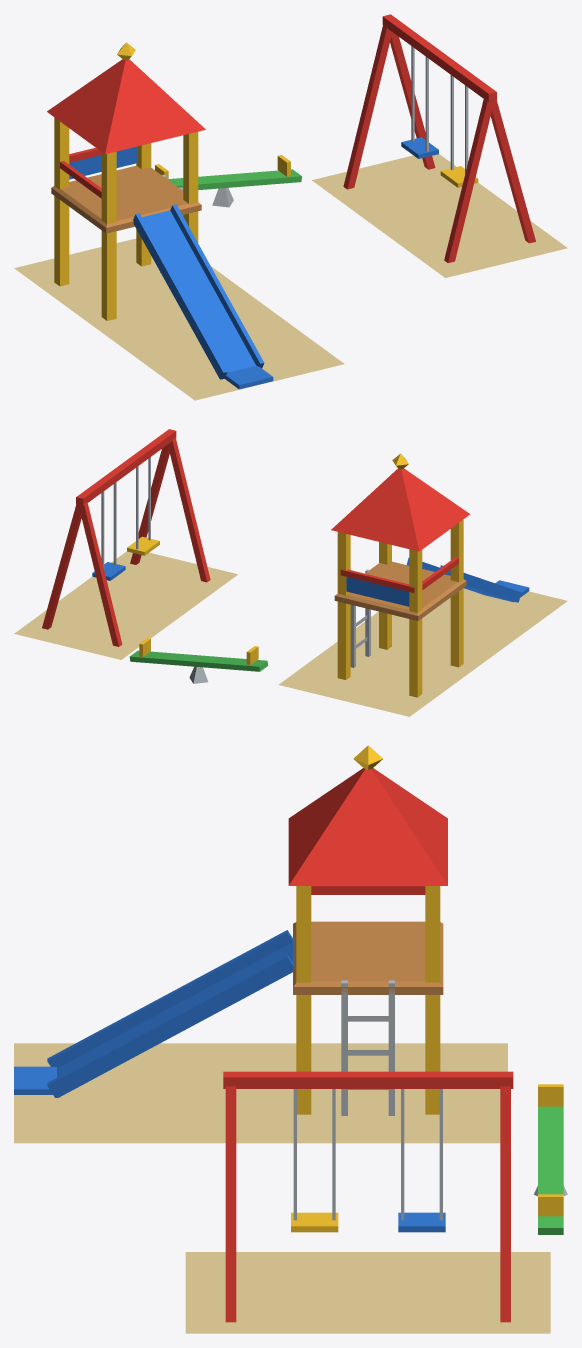
Rendered from playground.glb.
3 renders of one model, top to bottom at view 1: azimuth 30°, elevation 25°; view 2: azimuth 150°, elevation 25°; view 3: azimuth 270°, elevation 25°, orthographic. The views are drawn at different scales.
Visible parts, largest first — view 1: playground; view 2: playground; view 3: playground.
Part boxes in pixels (x1=…): playground: x1=14, y1=14, x2=567, y2=400; playground: x1=14, y1=429, x2=567, y2=716; playground: x1=14, y1=745, x2=567, y2=1333.
Bounding box in the file's own units: 0.64 × 0.3513 × 0.516.
